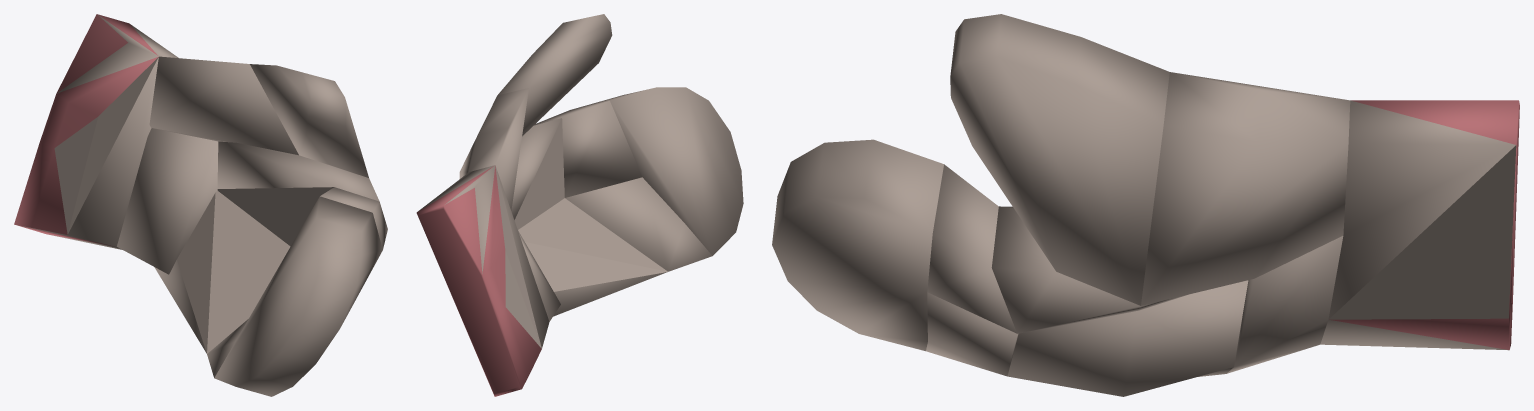
Rendered from glove_convex.fbx.
3 views of the same model, side by side, from view 1: azimuth 30°, elevation 25°; view 2: azimuth 150°, elevation 25°; view 3: azimuth 270°, elevation 25° (orthographic). The views are drawn at different scales.
Parts seen in each view (by area): view 1: glove_convex.002, glove_convex.001, glove_convex.007, glove_convex, glove_convex.006, glove_convex.008, glove_convex.005, glove_convex.004, glove_convex.003; view 2: glove_convex.002, glove_convex.001, glove_convex.007, glove_convex.003, glove_convex.005, glove_convex.004, glove_convex.008, glove_convex.006, glove_convex; view 3: glove_convex.002, glove_convex.005, glove_convex.006, glove_convex.001, glove_convex.007, glove_convex, glove_convex.004, glove_convex.008, glove_convex.003.
Boxes of the visible parts, left/top/right/bottom form: glove_convex.002: left=14, top=14, right=178, bottom=249; glove_convex.001: left=214, top=196, right=382, bottom=396; glove_convex.007: left=154, top=190, right=290, bottom=353; glove_convex: left=117, top=128, right=218, bottom=274; glove_convex.006: left=149, top=56, right=298, bottom=155; glove_convex.008: left=217, top=141, right=379, bottom=246; glove_convex.005: left=250, top=64, right=368, bottom=177; glove_convex.004: left=320, top=187, right=387, bottom=249; glove_convex.003: left=207, top=319, right=248, bottom=377; glove_convex.002: left=416, top=165, right=549, bottom=396; glove_convex.001: left=573, top=87, right=743, bottom=255; glove_convex.007: left=518, top=198, right=667, bottom=316; glove_convex.003: left=565, top=177, right=712, bottom=271; glove_convex.005: left=498, top=14, right=612, bottom=136; glove_convex.004: left=534, top=101, right=641, bottom=197; glove_convex.008: left=511, top=118, right=564, bottom=229; glove_convex.006: left=459, top=88, right=528, bottom=210; glove_convex: left=518, top=230, right=560, bottom=321; glove_convex.002: left=1320, top=100, right=1519, bottom=350; glove_convex.005: left=950, top=14, right=1169, bottom=305; glove_convex.006: left=1141, top=72, right=1350, bottom=305; glove_convex.001: left=772, top=139, right=943, bottom=351; glove_convex.007: left=1007, top=280, right=1248, bottom=396; glove_convex: left=1227, top=236, right=1343, bottom=373; glove_convex.004: left=927, top=164, right=1016, bottom=333; glove_convex.008: left=991, top=206, right=1186, bottom=333; glove_convex.003: left=926, top=292, right=1018, bottom=376.
Size of the model in its own units: 3.64 by 7.93 by 4.6.
